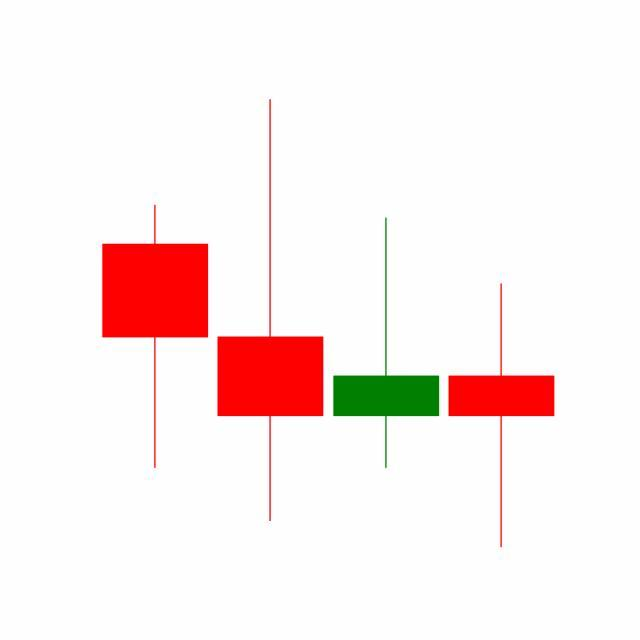Spinning Top: (329, 215, 445, 471)
